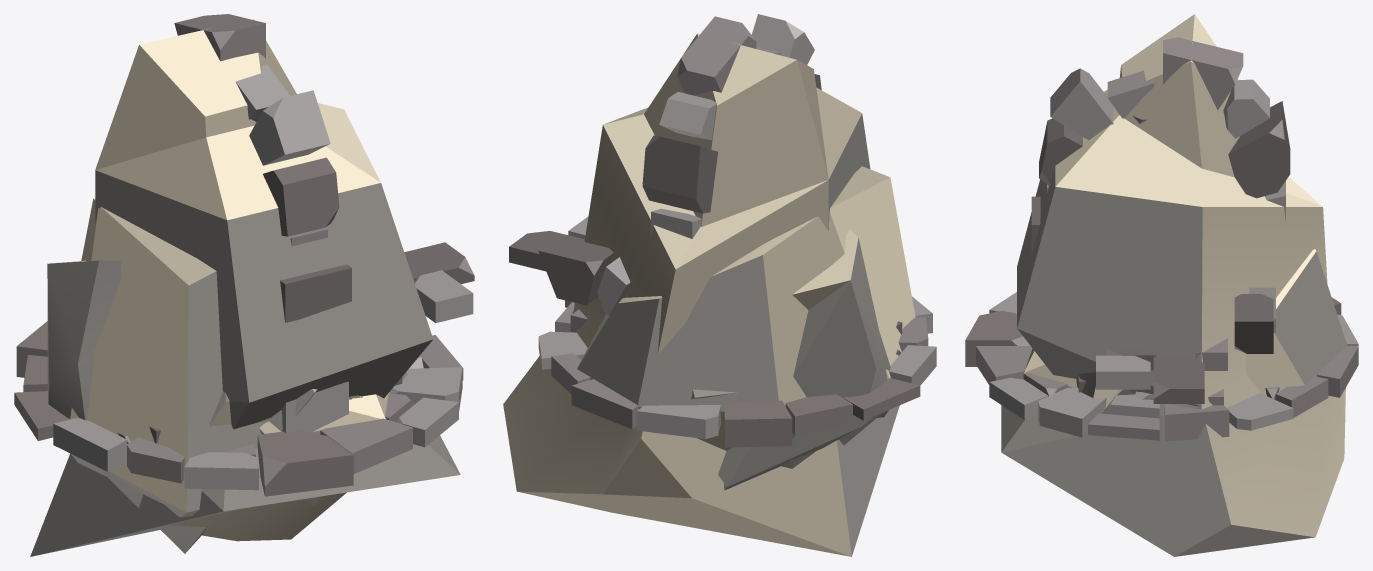
The model's file is AllProps.fbx.
3 renders of one model, left to right at view 1: azimuth 30°, elevation 25°; view 2: azimuth 150°, elevation 25°; view 3: azimuth 270°, elevation 25°, orthographic. The views are drawn at different scales.
Parts seen in each view (by area): view 1: Stone2, Stone5, RotatorPlatform, Door2, Stone7, Door1, Bridge, Stone4; view 2: Stone2, Stone5, RotatorPlatform, Stone7, Door1, Bridge, Door2; view 3: Stone2, RotatorPlatform, Door1, Stone5, Bridge, Door2, Stone4.
Part boxes in pixels (box(x1,y1,x2,y2)): Stone2: box(30, 18, 460, 556); Stone5: box(70, 198, 407, 541); RotatorPlatform: box(14, 321, 463, 496); Door2: box(249, 90, 351, 434); Stone7: box(47, 260, 317, 553); Door1: box(174, 14, 289, 121); Bridge: box(305, 242, 474, 505); Stone4: box(259, 392, 389, 434); Stone2: box(503, 33, 899, 556); Stone5: box(577, 166, 915, 468); RotatorPlatform: box(538, 296, 936, 447); Stone7: box(718, 229, 890, 490); Door1: box(642, 16, 781, 238); Bridge: box(509, 216, 630, 315); Door2: box(751, 14, 821, 89); Stone2: box(1001, 14, 1345, 556); RotatorPlatform: box(965, 292, 1358, 441); Door1: box(1107, 37, 1290, 221); Stone5: box(1076, 249, 1347, 408); Bridge: box(1096, 287, 1275, 403); Door2: box(1031, 68, 1113, 351); Stone4: box(1023, 348, 1134, 397).
Bounding box in the file's own units: 329 × 387 × 299.
